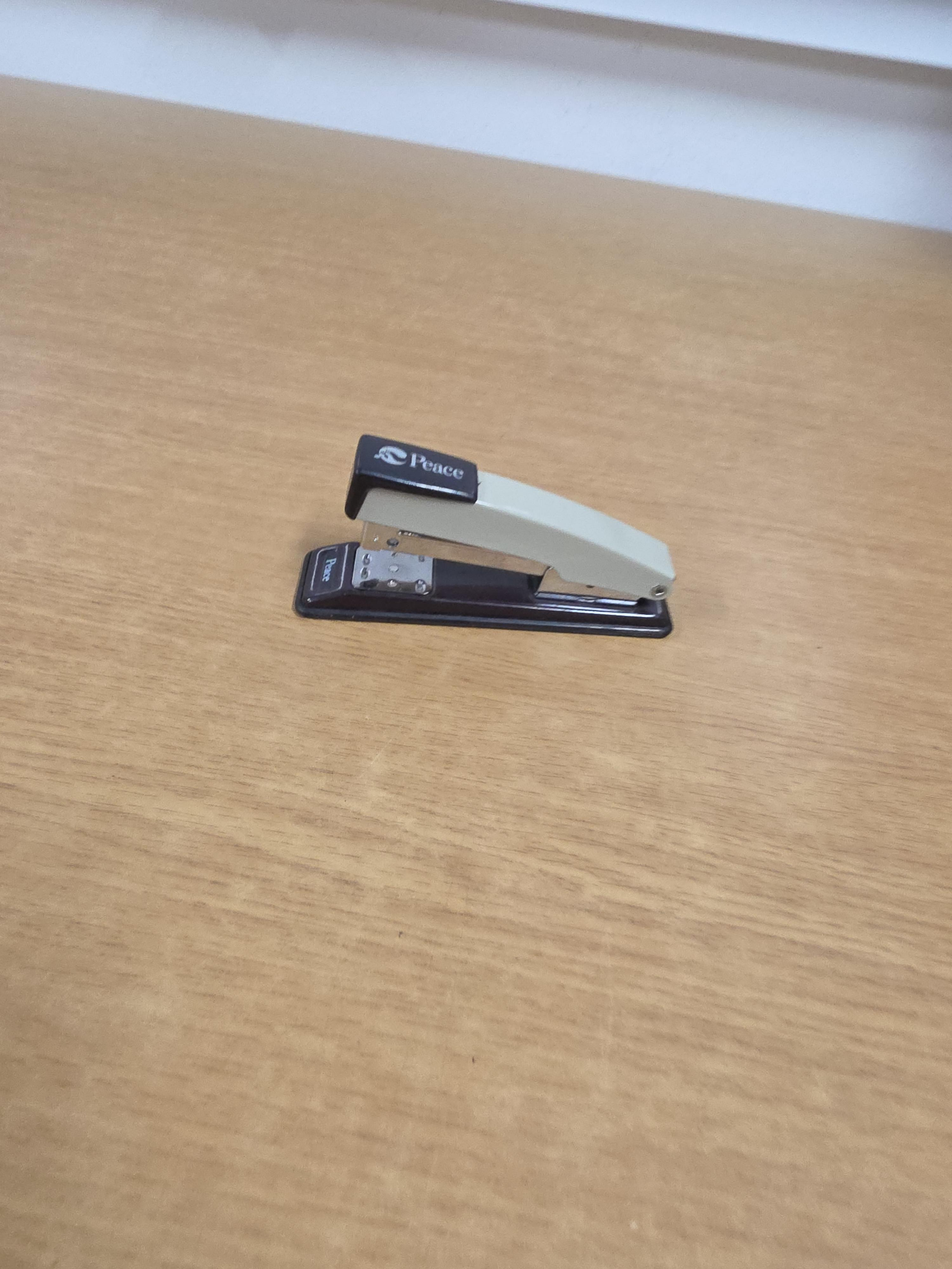stapler: (293, 432, 678, 639)
